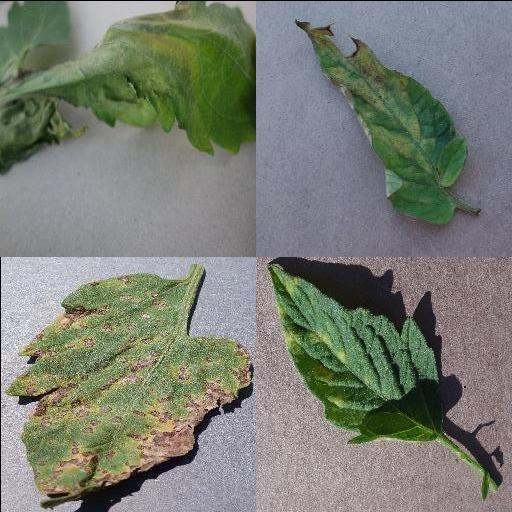Late Blight: (0, 0, 256, 178)
Leaf Mold: (296, 18, 468, 224), (265, 264, 445, 444)
Septoria: (4, 273, 251, 507)
